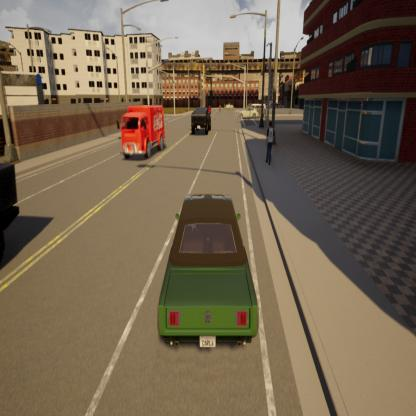Cars: (159, 197, 259, 350), (120, 103, 166, 158), (0, 159, 20, 269), (192, 105, 211, 137), (240, 104, 259, 122), (250, 101, 266, 118), (205, 102, 214, 115), (226, 102, 233, 110)
Pedestrian: (267, 118, 274, 168), (218, 101, 222, 116)
